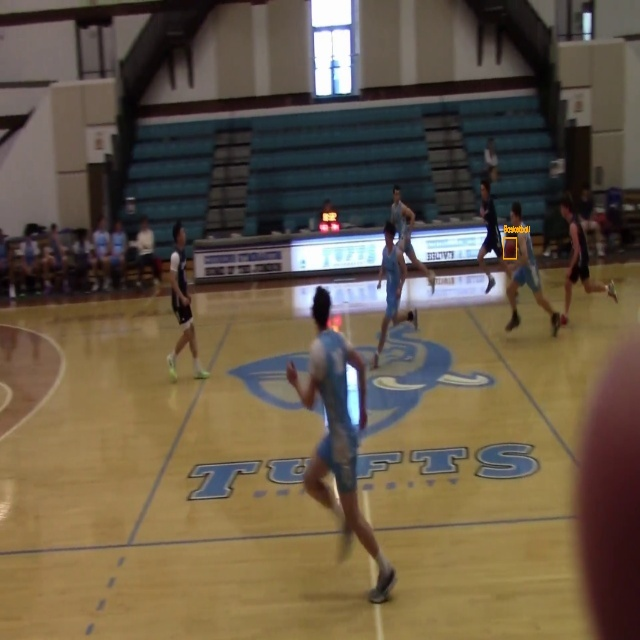Basketball: (504, 238, 517, 259)
